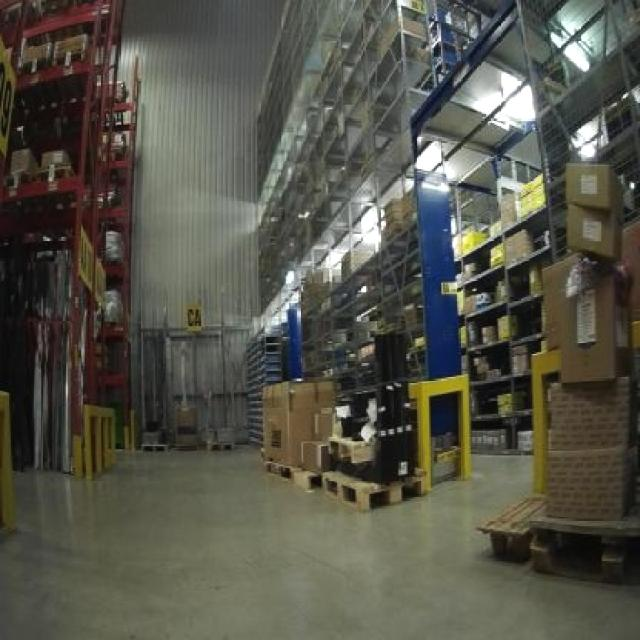floor: (0, 446, 637, 637)
pallets: (260, 380, 332, 468), (0, 390, 12, 528)
